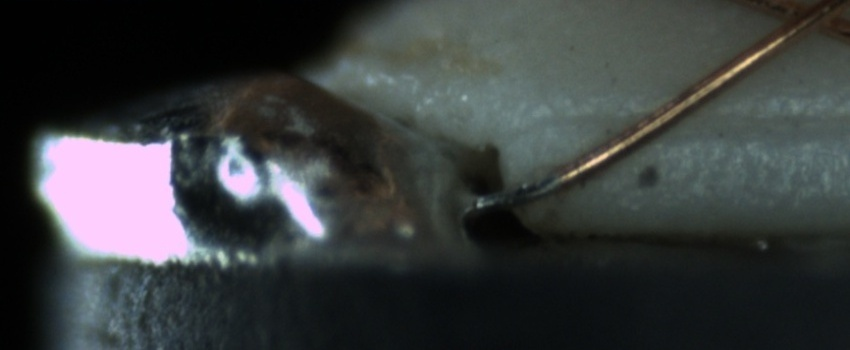CL: (759, 0, 845, 45)
DL: (558, 83, 850, 154)
TS: (472, 171, 564, 209)
